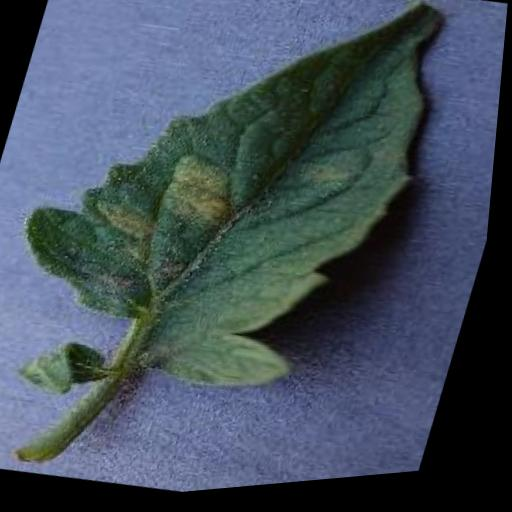Leaf Mold: (0, 0, 466, 437)
